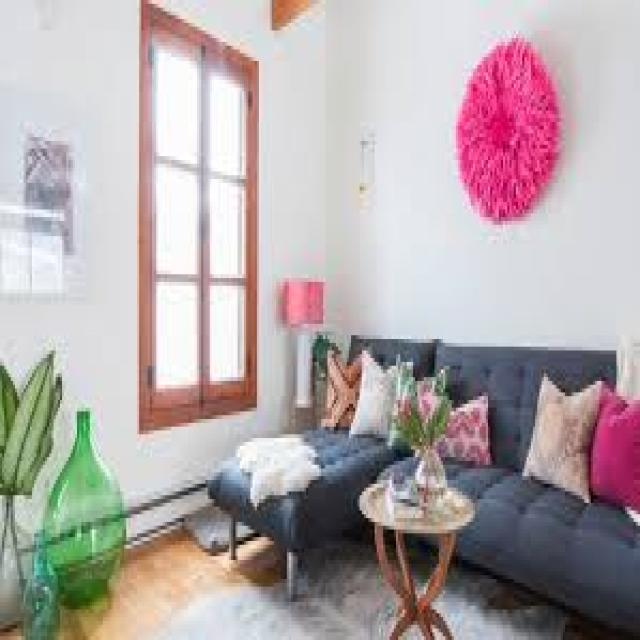Sofa: (231, 332, 640, 612)
Table: (358, 474, 459, 639)
